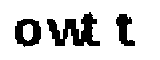o: (11, 15, 42, 49)
t: (84, 9, 109, 48), (115, 10, 139, 50)
w: (43, 16, 85, 52)
